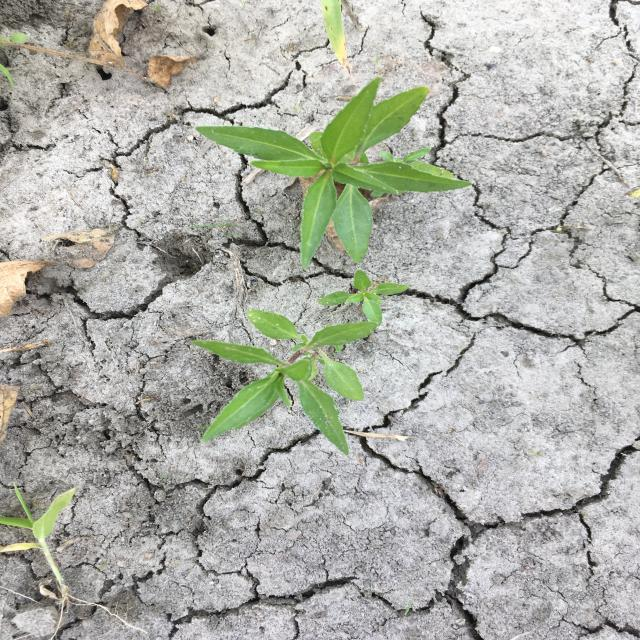Eclipta: (192, 76, 474, 272), (185, 308, 379, 458), (317, 267, 410, 328)
